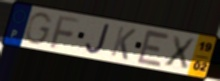E: (135, 28, 172, 69)
F: (48, 14, 82, 50)
G: (23, 12, 54, 47)
J: (85, 22, 112, 55)
K: (109, 24, 138, 62)
X: (163, 34, 197, 71)
